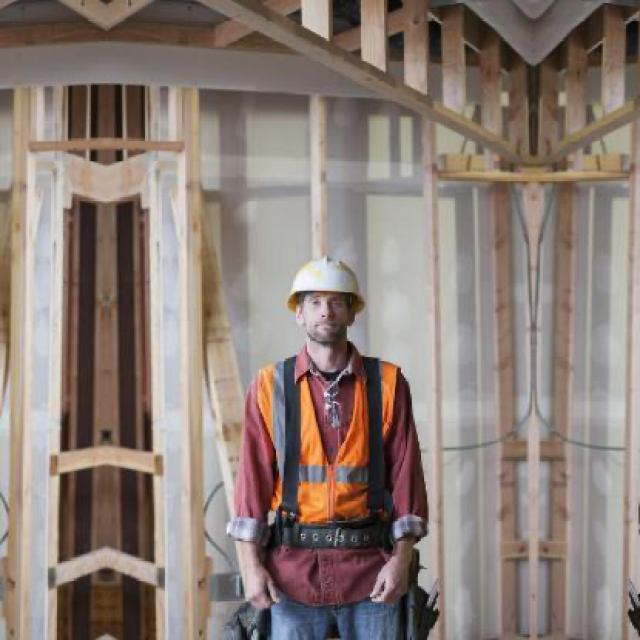reflective_jacket: (232, 346, 427, 607)
safety_helmet: (271, 242, 382, 320)
